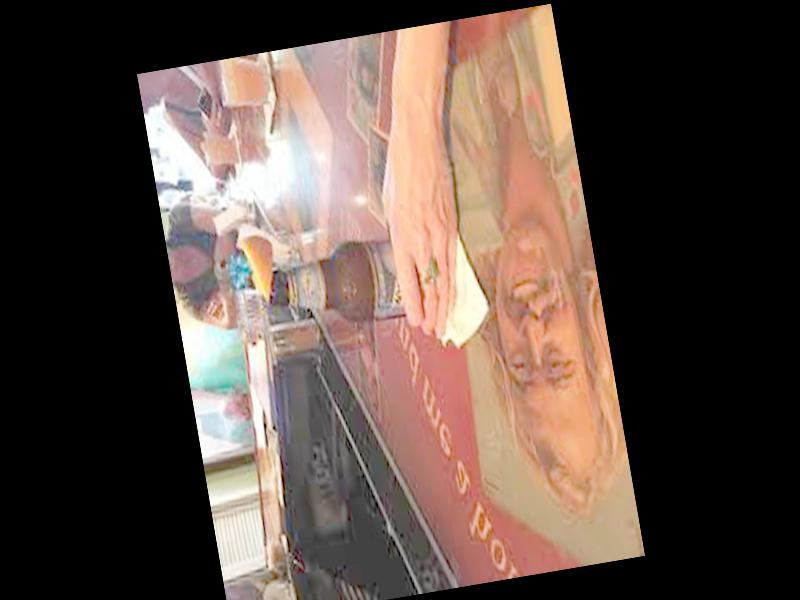Beer: (258, 230, 459, 342)
